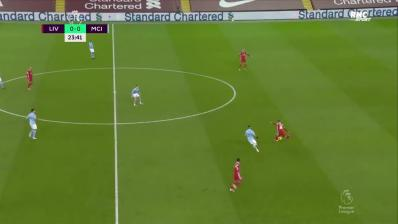football: (277, 136, 283, 141)
player: (268, 118, 294, 144), (229, 157, 245, 194), (243, 124, 262, 154), (25, 107, 40, 142), (236, 47, 252, 72), (129, 84, 145, 108), (24, 65, 36, 91), (88, 39, 97, 61)
